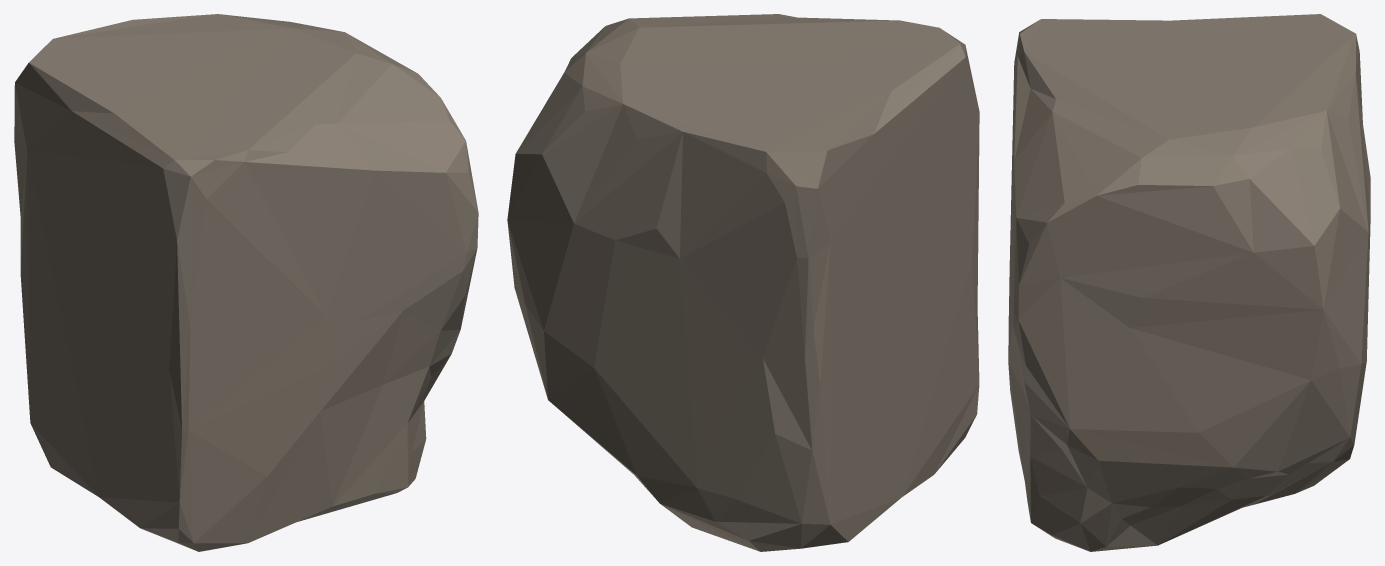
File: elven_SM_Env_Rock_Square_01.gltf
3 renders of one model, left to right at view 1: azimuth 30°, elevation 25°; view 2: azimuth 150°, elevation 25°; view 3: azimuth 270°, elevation 25°, orthographic. The views are drawn at different scales.
Visible parts, largest first — view 1: SM_Env_Rock_Square_01; view 2: SM_Env_Rock_Square_01; view 3: SM_Env_Rock_Square_01.
Boxes of the visible parts, x1,y1,x2,y2 form: SM_Env_Rock_Square_01: (14, 14, 478, 551); SM_Env_Rock_Square_01: (507, 14, 979, 551); SM_Env_Rock_Square_01: (1008, 14, 1370, 551).
Bounding box in the file's own units: 7.47 × 9.12 × 7.31.
1 material, 1 textured.
